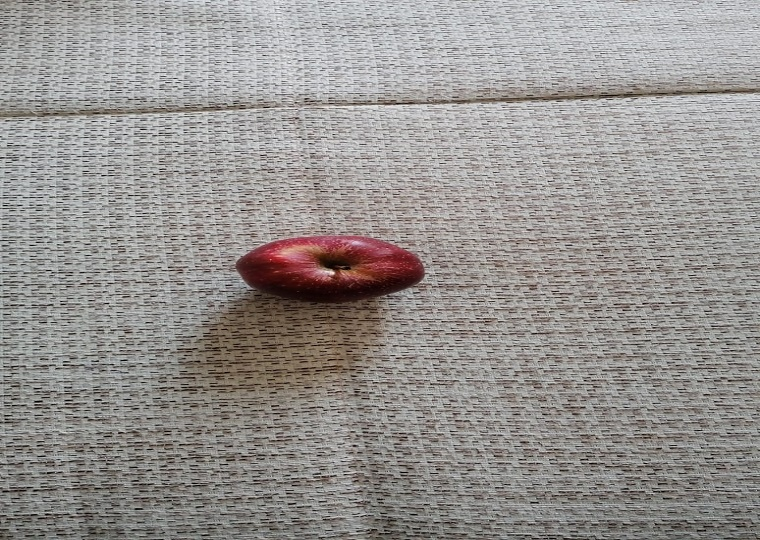elma: (233, 233, 428, 305)
